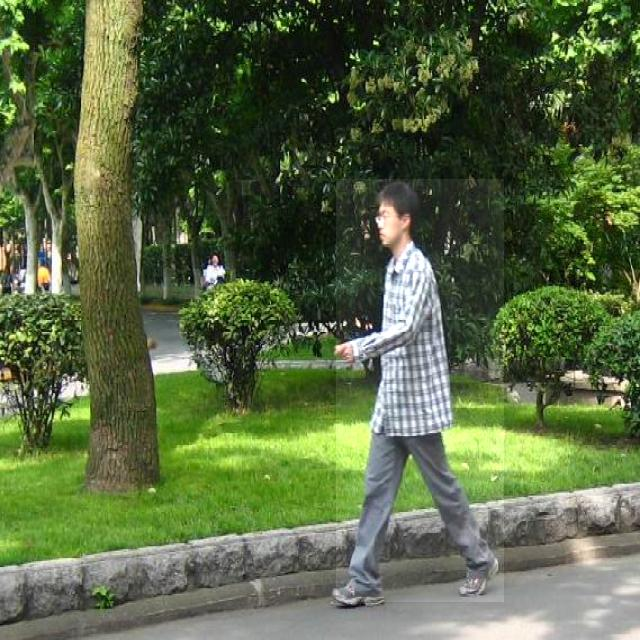with scooter: (336, 179, 504, 602)
